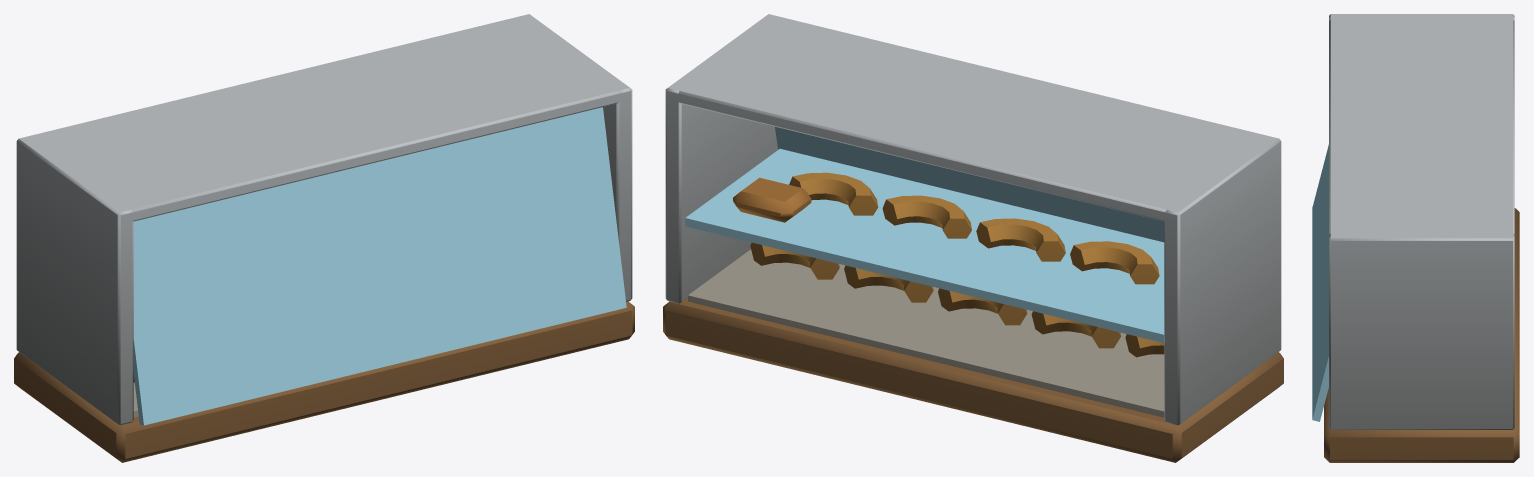
Rendered from 65_vitrine_patisseries.fbx.
The picture shows the model from 3 angles, left to right: view 1: azimuth 30°, elevation 25°; view 2: azimuth 150°, elevation 25°; view 3: azimuth 270°, elevation 25°; orthographic projection. The views are drawn at different scales.
Visible parts, largest first — view 1: Vitrine, Vitre; view 2: Vitrine, Vitre; view 3: Vitrine, Vitre.
Part boxes in pixels (x1=…): Vitrine: x1=14, y1=14, x2=634, y2=462; Vitre: x1=133, y1=107, x2=626, y2=425; Vitrine: x1=663, y1=14, x2=1283, y2=462; Vitre: x1=775, y1=126, x2=1164, y2=242; Vitrine: x1=1324, y1=14, x2=1519, y2=462; Vitre: x1=1312, y1=144, x2=1328, y2=421.
Bounding box in the file's own units: 0.728 × 0.336 × 0.28.
1 material, 1 textured.
